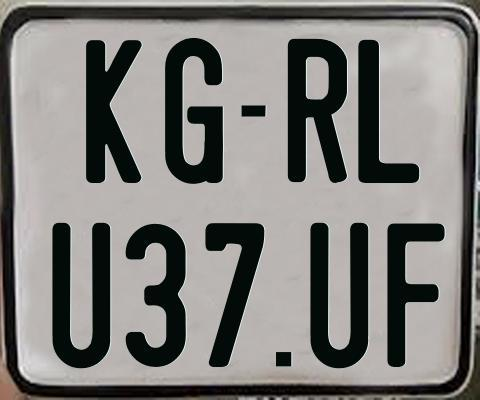3: (122, 224, 186, 373)
7: (203, 222, 268, 368)
F: (384, 223, 443, 370)
G: (165, 38, 227, 189)
K: (83, 39, 143, 186)
L: (357, 39, 418, 187)
R: (287, 37, 347, 181)
U: (309, 223, 371, 370), (49, 221, 107, 372)
